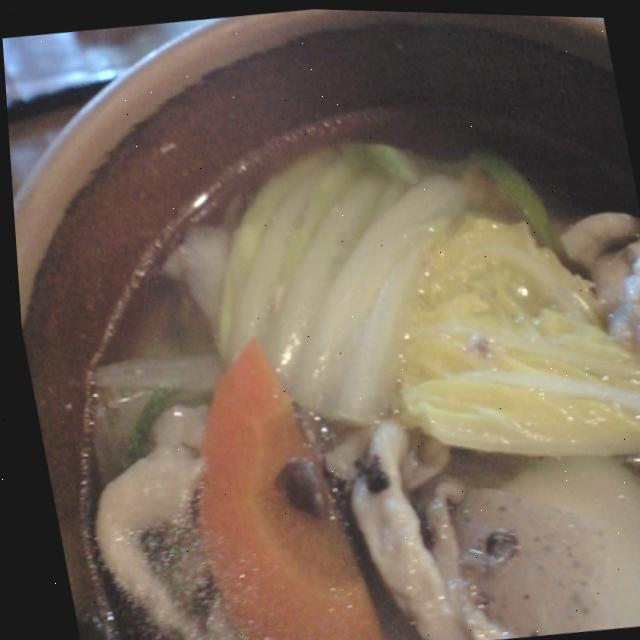汤锅炖物: (19, 295, 640, 640)
